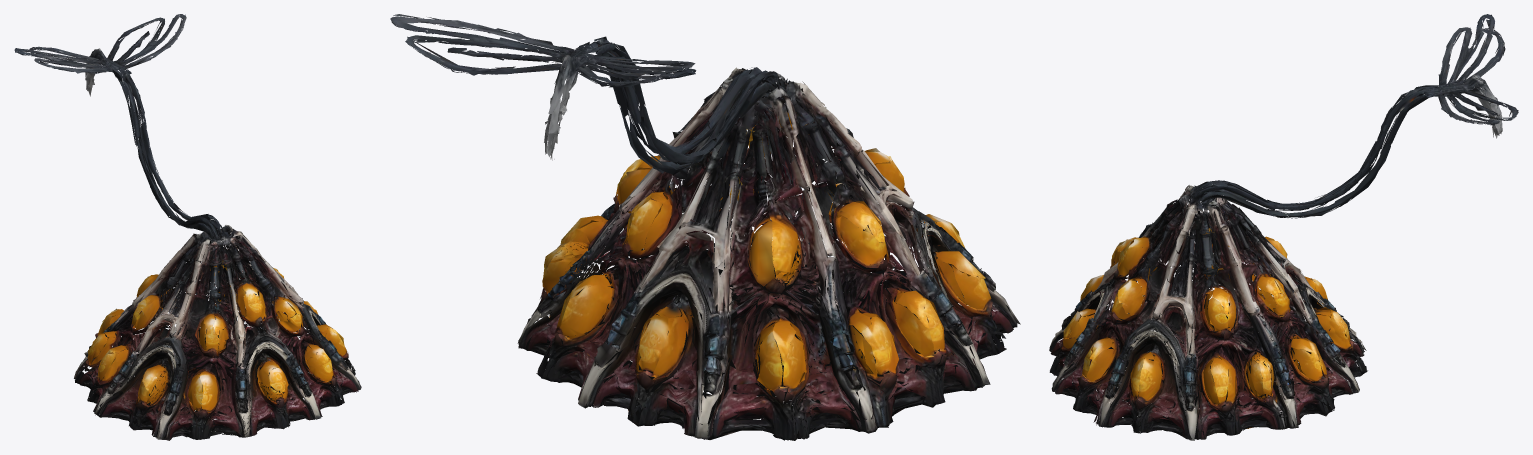
The model's file is prop_hive_chitin_hatchery.glb.
The picture shows the model from 3 angles, left to right: view 1: azimuth 30°, elevation 25°; view 2: azimuth 150°, elevation 25°; view 3: azimuth 270°, elevation 25°; orthographic projection. The views are drawn at different scales.
Parts seen in each view (by area): view 1: node_0; view 2: node_0; view 3: node_0.
Boxes of the visible parts, x1,y1,x2,y2 form: node_0: (14, 14, 361, 440); node_0: (390, 14, 1020, 440); node_0: (1049, 14, 1518, 440).
Size of the model in its own units: 0.698 by 0.7027 by 0.9575.
1 material, 1 textured.
